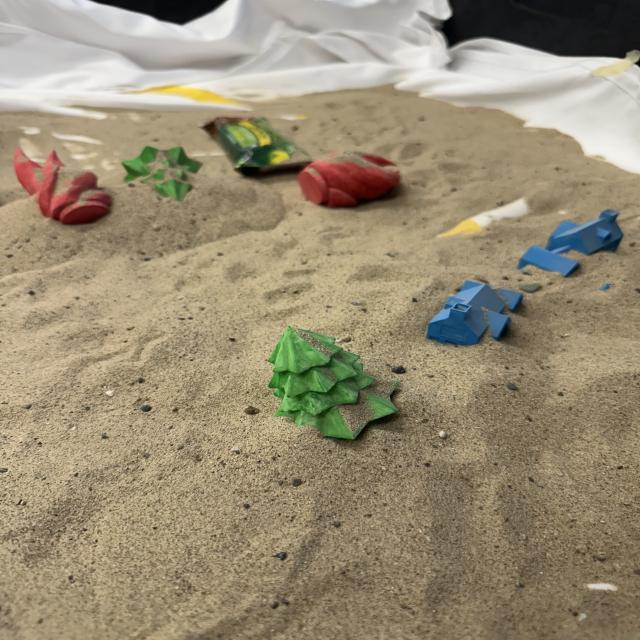fire: (12, 146, 112, 226), (296, 150, 402, 208)
house: (515, 207, 626, 280), (424, 278, 519, 346)
tree: (264, 324, 401, 441), (120, 144, 208, 204)
